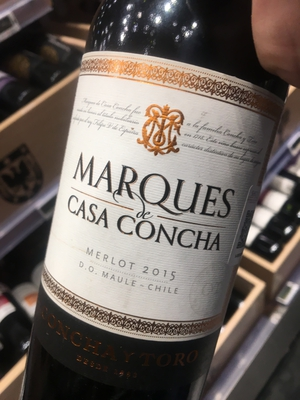marques de casa concha merlot: (38, 1, 288, 398)
